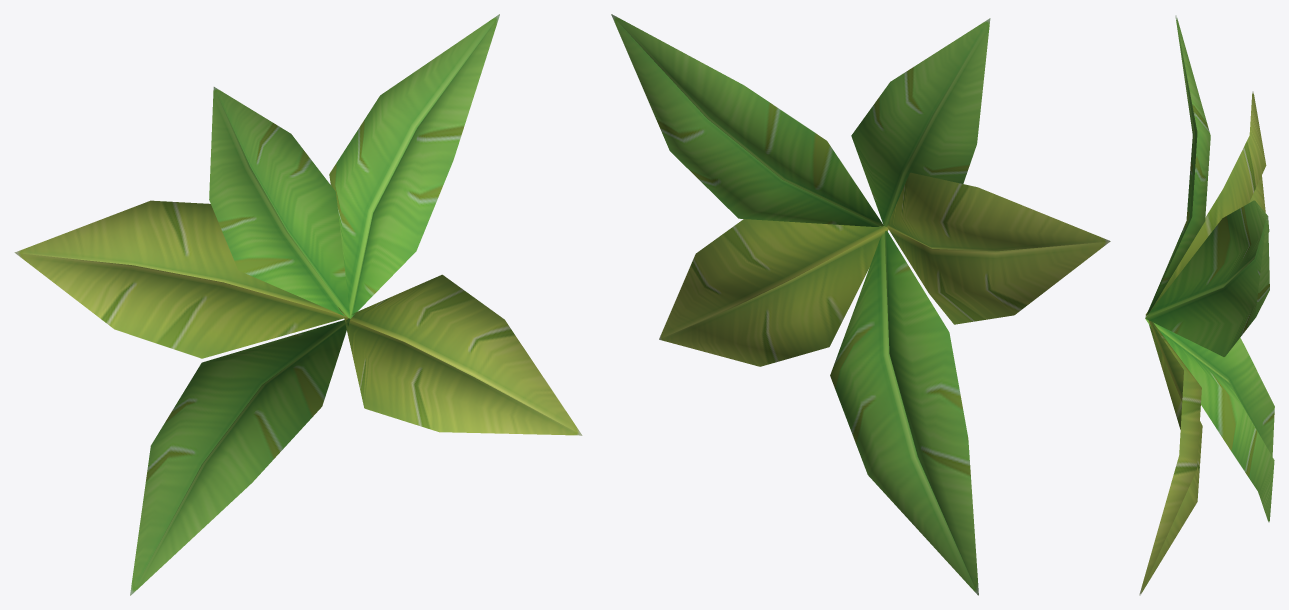
File: Plant_B.fbx
The picture shows the model from 3 angles, left to right: view 1: azimuth 30°, elevation 25°; view 2: azimuth 150°, elevation 25°; view 3: azimuth 270°, elevation 25°; orthographic projection.
Parts seen in each view (by area): view 1: Plant_B; view 2: Plant_B; view 3: Plant_B.
Part boxes in pixels (<box>): Plant_B: <box>14,14,582,595</box>; Plant_B: <box>611,14,1110,595</box>; Plant_B: <box>1139,15,1274,595</box>.
Size of the model in its own units: 2.51 by 2.52 by 0.5886.
